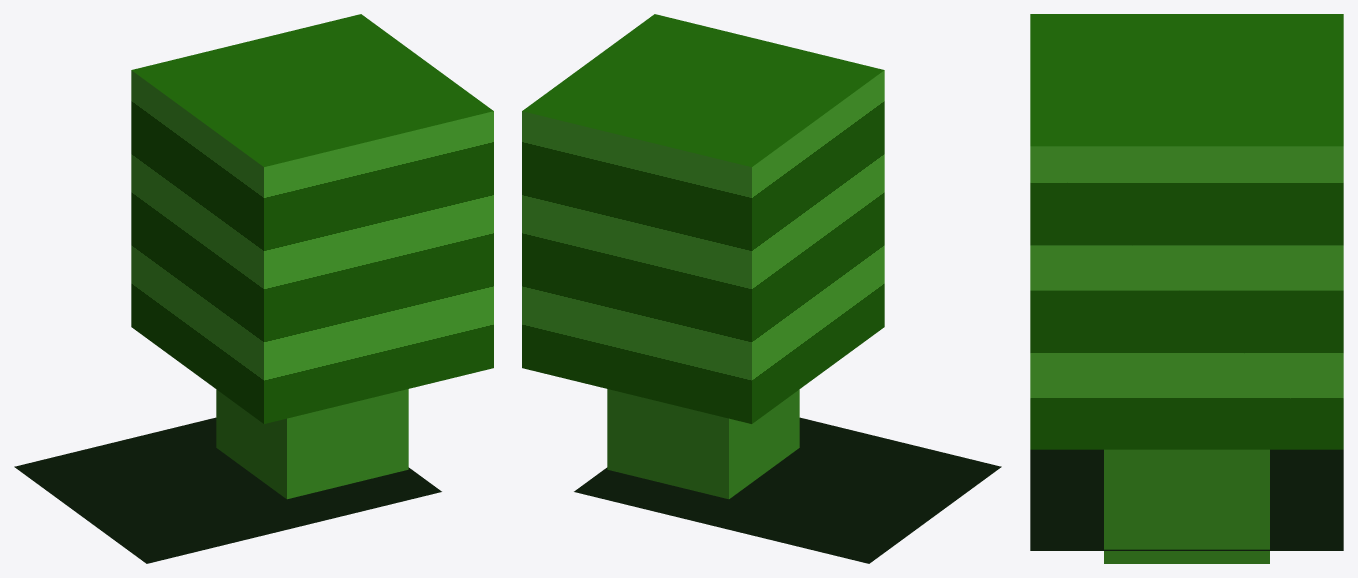
The model's file is Tree_Short.fbx.
3 renders of one model, left to right at view 1: azimuth 30°, elevation 25°; view 2: azimuth 150°, elevation 25°; view 3: azimuth 270°, elevation 25°, orthographic. The views are drawn at different scales.
Parts seen in each view (by area): view 1: Tree1.001, Plane.001; view 2: Tree1.001, Plane.001; view 3: Tree1.001, Plane.001.
Boxes of the visible parts, box(x1,y1,x2,y2) form: Tree1.001: box(131, 14, 493, 499); Plane.001: box(14, 417, 441, 563); Tree1.001: box(522, 14, 884, 499); Plane.001: box(574, 417, 1001, 563); Tree1.001: box(1030, 14, 1343, 563); Plane.001: box(1030, 449, 1343, 550).
Bounding box in the file's own units: 227 × 150 × 237.
3 materials, 2 textured.
